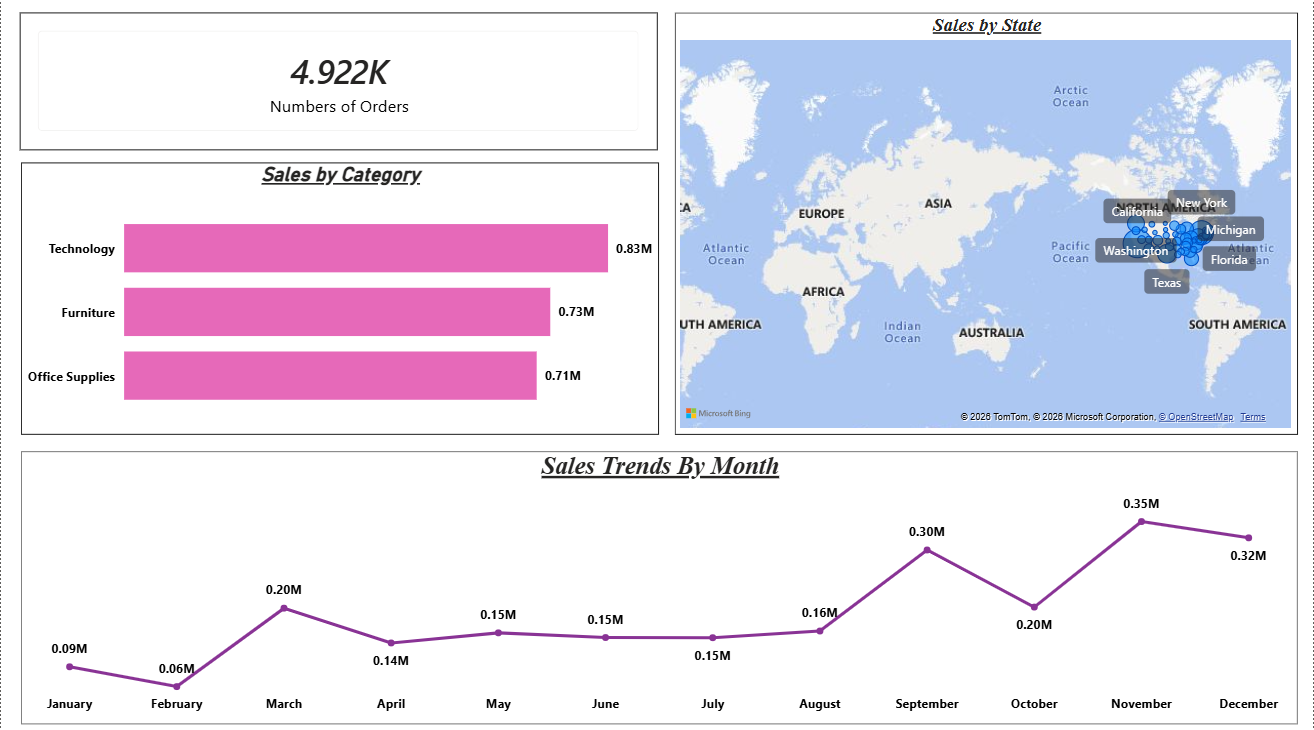

This screenshot's page, from the dashboard's own definition file:
{"tool":"powerbi","page":{"name":"Sales_Dashboard","canvas":[1280,720],"ordinal":0},"visuals":[{"type":"lineChart","title":" Sales Trends By Month","fields":{"Y":["Sum(Cleaned_Sales_data.Sales)"],"Category":["Cleaned_Sales_data.Order Date.Variation.Date Hierarchy.Month"]},"box":[19.2,440.5,1246,266.2],"z":0},{"type":"barChart","title":" Sales by Category","fields":{"Category":["Cleaned_Sales_data.Category"],"Y":["Sum(Cleaned_Sales_data.Sales)"]},"box":[19.6,159,622.4,265.4],"z":1000},{"type":"map","title":" Sales by State","fields":{"Category":["Cleaned_Sales_data.State"],"Size":["Sum(Cleaned_Sales_data.Sales)"]},"box":[657.9,12.2,607.7,412.1],"z":2000},{"type":"cardVisual","fields":{"Data":["Count(Cleaned_Sales_data.Order ID)"]},"box":[17.8,12.2,622.2,134.4],"z":2001}]}

Visuals, with their boxes in screenshot pixels (x1, y1, x2, y2), scaled from the page's 1280x720 canvas onto the 1314x730 screenshot:
" Sales Trends By Month" lineChart: locate(20, 447, 1299, 717)
" Sales by Category" barChart: locate(20, 161, 659, 430)
" Sales by State" map: locate(675, 12, 1299, 430)
cardVisual - Count(Cleaned_Sales_data.Order ID): locate(18, 12, 657, 149)
